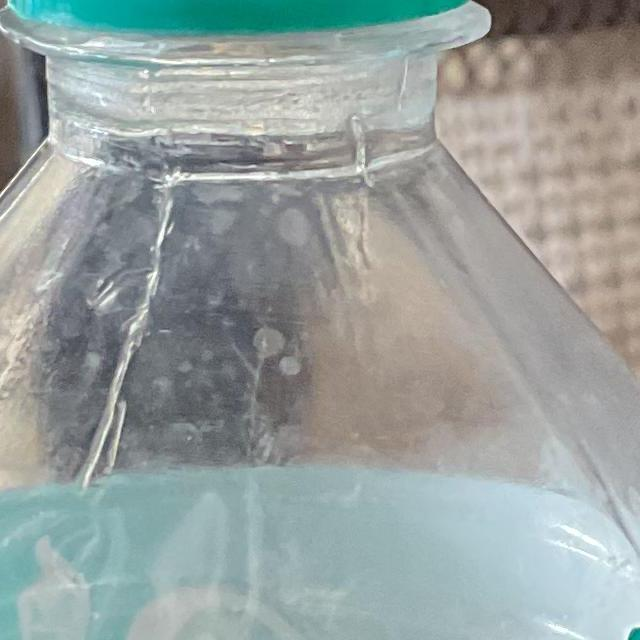open-cap: (29, 0, 468, 67)
